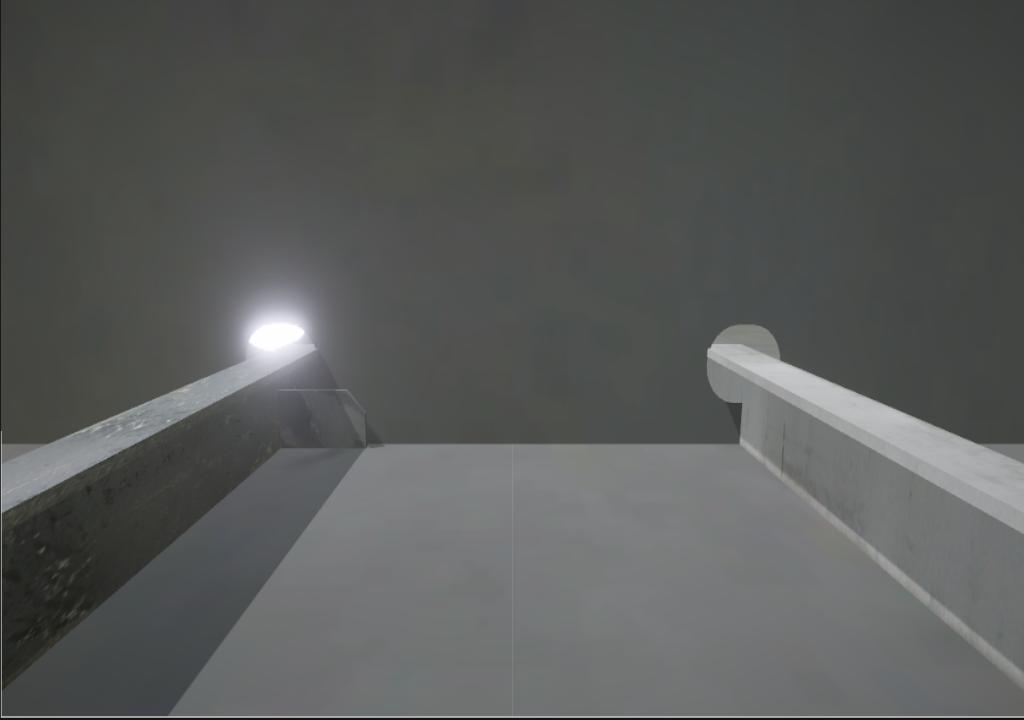fillet_yong_jeop_jang: (368, 432, 748, 458)
longi_yong_jeop_jang: (728, 394, 751, 455)
plate_CP03: (278, 387, 370, 448)
